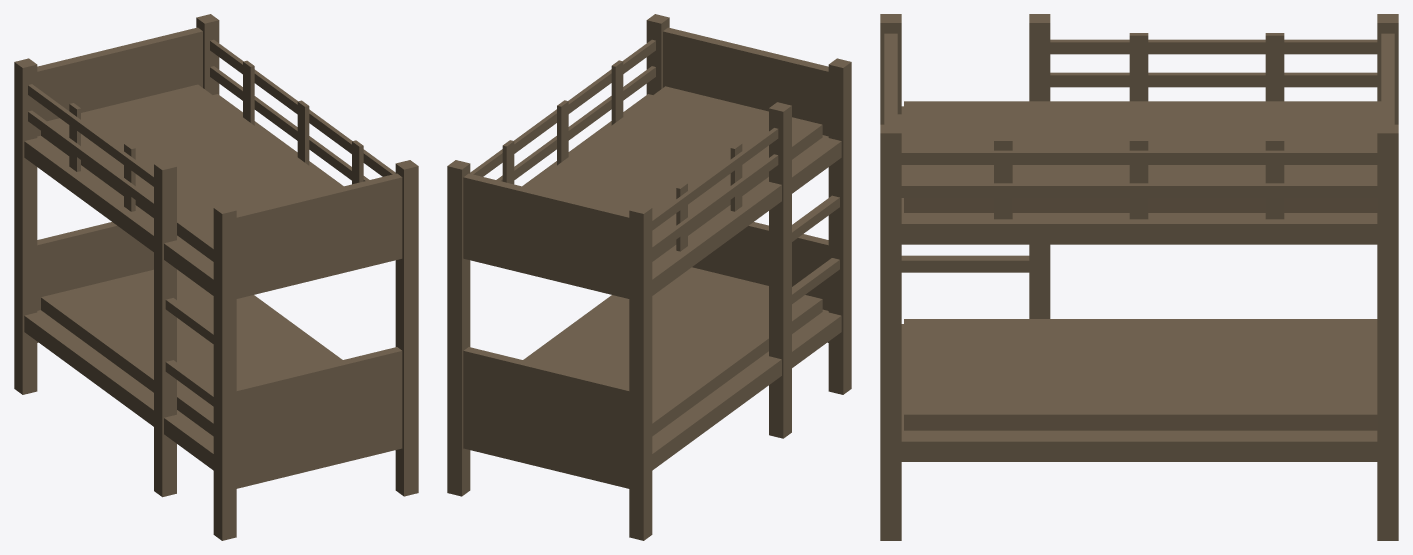
File: Itr_Bed_Bunk1_03.FBX
3 views of the same model, side by side, from view 1: azimuth 30°, elevation 25°; view 2: azimuth 150°, elevation 25°; view 3: azimuth 270°, elevation 25° (orthographic). The views are drawn at different scales.
Parts seen in each view (by area): view 1: Itr_Bed_Bunk1_03; view 2: Itr_Bed_Bunk1_03; view 3: Itr_Bed_Bunk1_03.
Part boxes in pixels (x1,y1,x2,y2): Itr_Bed_Bunk1_03: (14,14,418,540); Itr_Bed_Bunk1_03: (447,14,851,540); Itr_Bed_Bunk1_03: (880,14,1398,540).
Size of the model in its own units: 52.88 by 84.09 by 96.88.
